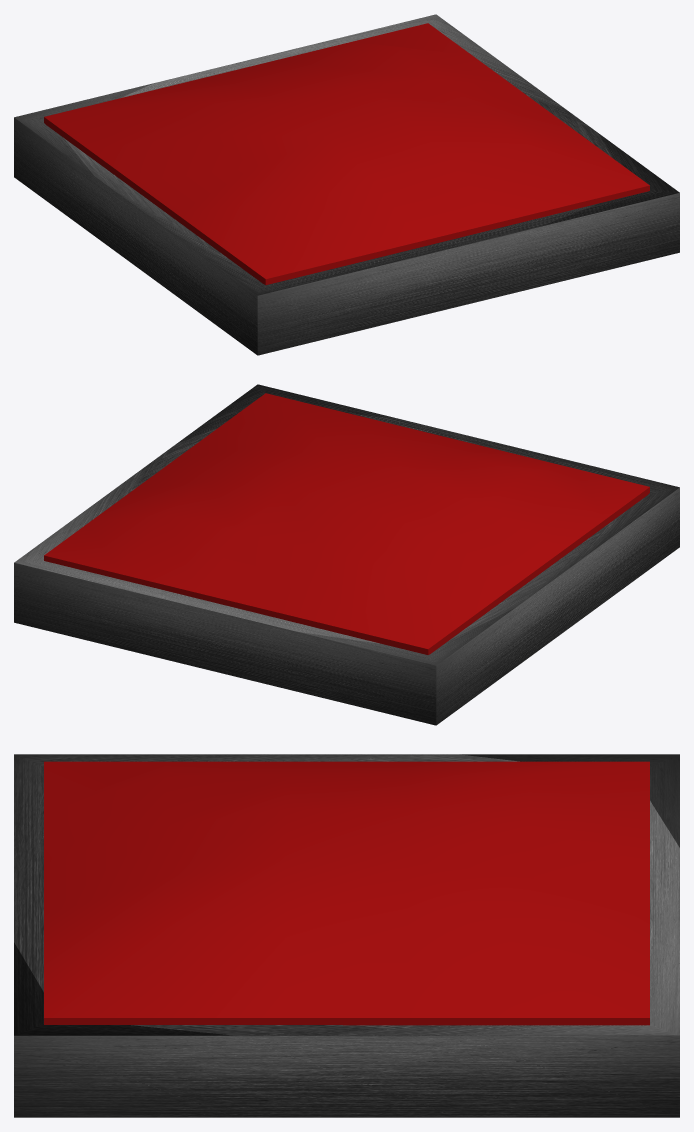
The model's file is JumpPad.fbx.
The picture shows the model from 3 angles, top to bottom: view 1: azimuth 30°, elevation 25°; view 2: azimuth 150°, elevation 25°; view 3: azimuth 270°, elevation 25°; orthographic projection. The views are drawn at different scales.
Visible parts, largest first — view 1: Pad, Gaurd; view 2: Pad, Gaurd; view 3: Pad, Gaurd.
Part boxes in pixels (box(x1,y1,x2,y2)): Pad: box(44, 23, 649, 284); Gaurd: box(14, 14, 679, 355); Pad: box(44, 393, 649, 654); Gaurd: box(14, 384, 679, 725); Pad: box(44, 761, 649, 1025); Gaurd: box(14, 754, 679, 1117).
Size of the model in its own units: 220 by 51.58 by 220.
Materials: 2 (1 with a texture image).
